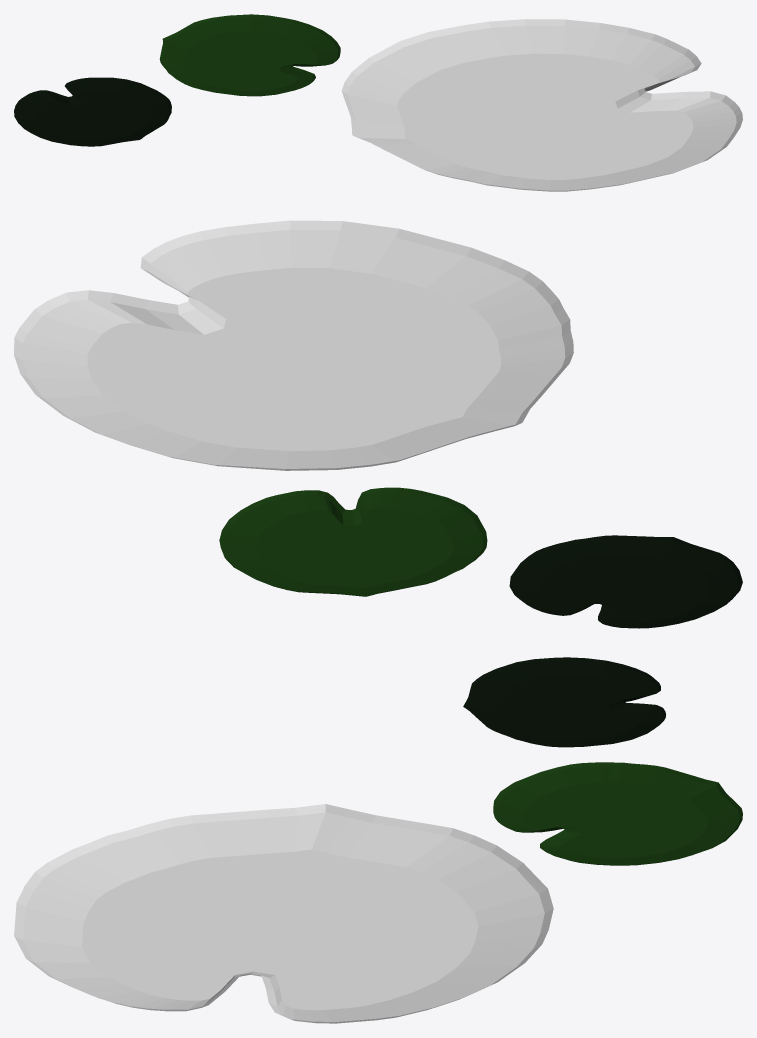
File: nenuphar.FBX
3 renders of one model, top to bottom at view 1: azimuth 30°, elevation 25°; view 2: azimuth 150°, elevation 25°; view 3: azimuth 270°, elevation 25°, orthographic. The views are drawn at different scales.
Parts seen in each view (by area): view 1: Object087, Object090, Object089; view 2: Object087, Object090, Object089; view 3: Object087, Object090, Object089.
Part boxes in pixels (x1,y1,x2,y2): Object087: (341,19,742,191); Object090: (159,14,340,96); Object089: (14,77,171,146); Object087: (14,220,573,470); Object090: (219,487,487,596); Object089: (509,535,742,628); Object087: (14,804,553,1023); Object090: (493,762,742,865); Object089: (463,657,665,747).
Bounding box in the file's own units: 82.73 × 1.57 × 69.02.
